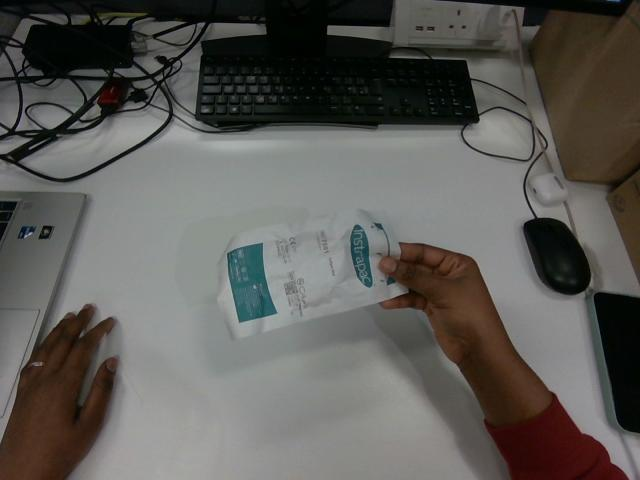gallipot: (217, 210, 407, 337)
